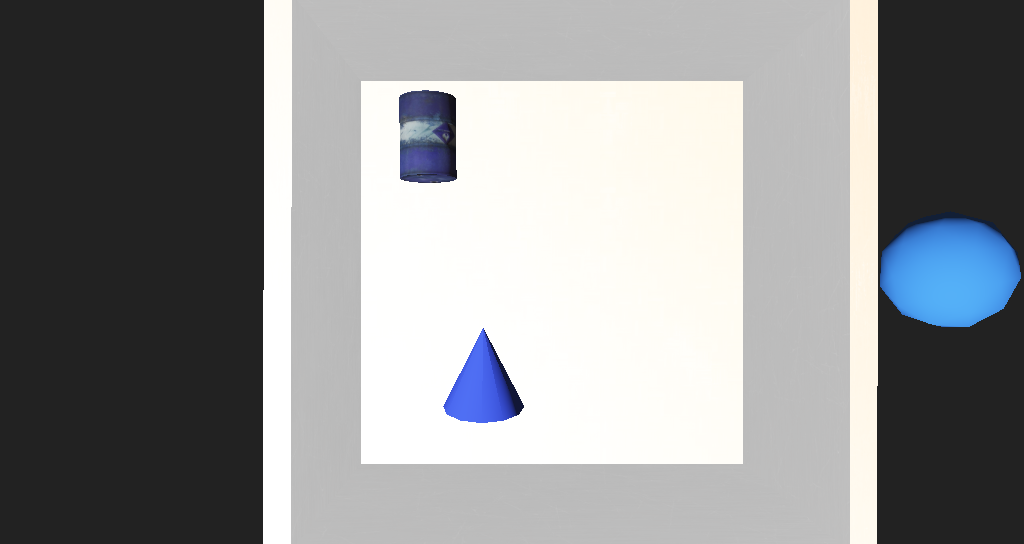cone: (377, 169, 431, 222)
cylinder: (421, 291, 482, 348)
sphere: (728, 239, 808, 296)
